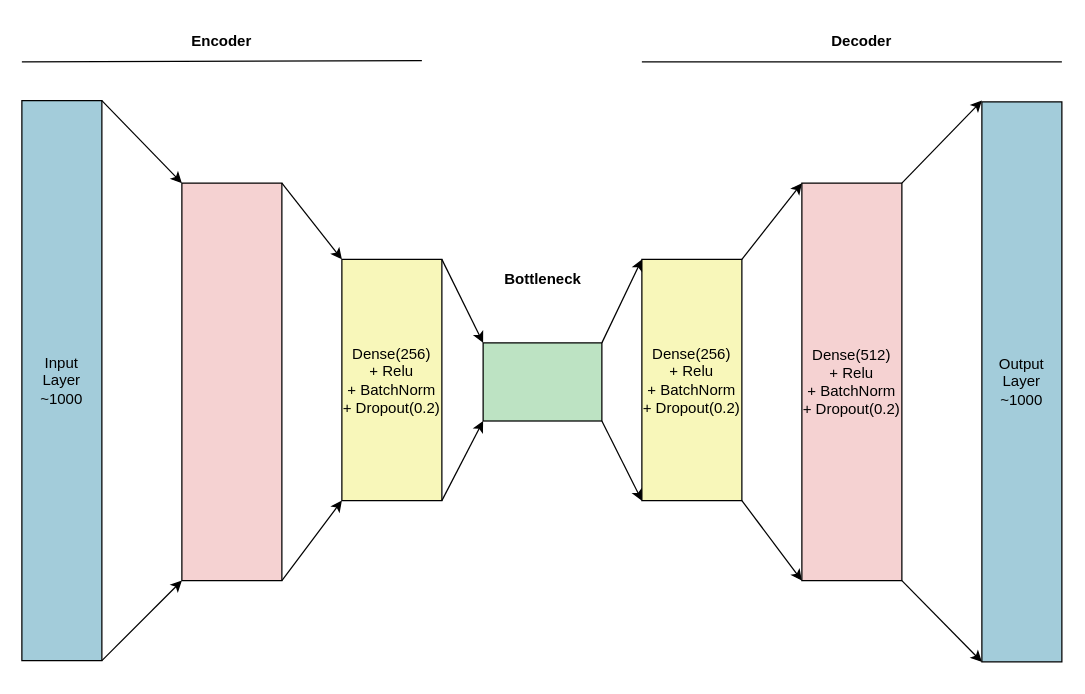
Some shapes in this 1085 by 694 pixel diagram are drawn without their labels. The shapes that lost their labels are listed below. From the top down, each one's centre as x and y in pixels, then its label:
At (231,381): "Dense(512) + Relu + BatchNorm + Dropout(0.3)".
At (542,381): "Embedding(64)".
